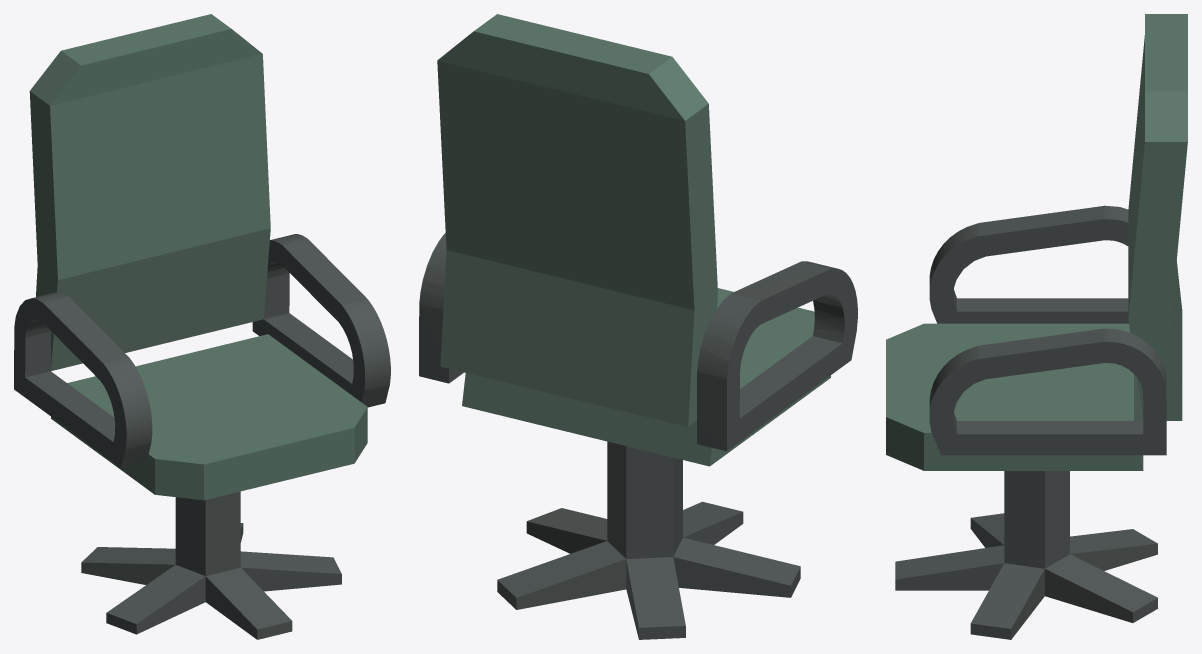
Rendered from chair_desk.glb.
The picture shows the model from 3 angles, left to right: view 1: azimuth 30°, elevation 25°; view 2: azimuth 150°, elevation 25°; view 3: azimuth 270°, elevation 25°; orthographic projection. The views are drawn at different scales.
Parts seen in each view (by area): view 1: prop; view 2: prop; view 3: prop.
Boxes of the visible parts, left/top/right/bottom form: prop: left=14, top=14, right=390, bottom=639; prop: left=419, top=14, right=857, bottom=639; prop: left=886, top=14, right=1187, bottom=639.
Bounding box in the file's own units: 0.5513 × 1 × 0.5173.
